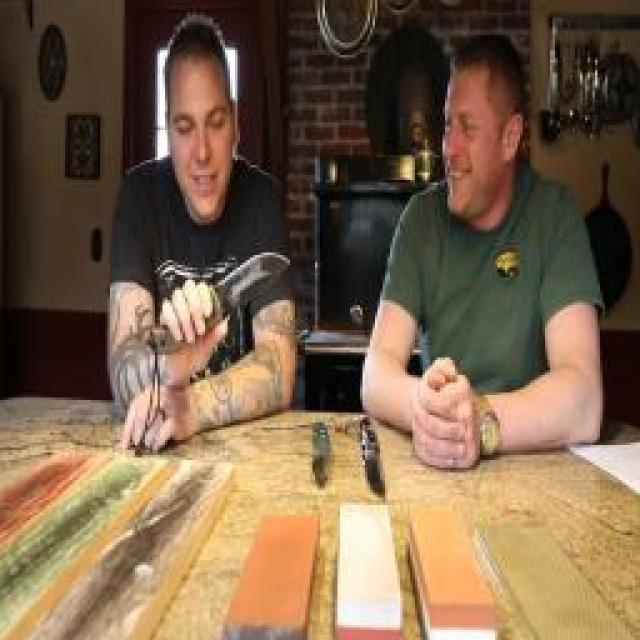knife: (170, 232, 300, 352)
